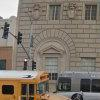Bus: (2, 67, 55, 100)
